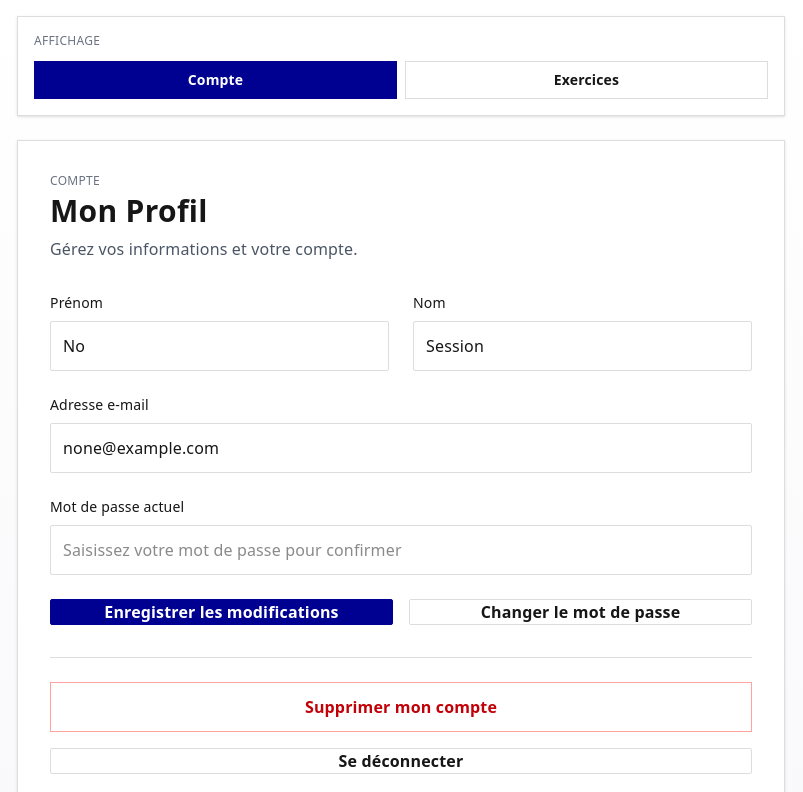
Test: Profile page › shows no session message when dashboard has no sessions
Click the button "Exercices" at {"x": 586, "y": 80}, box [405,61,768,99]
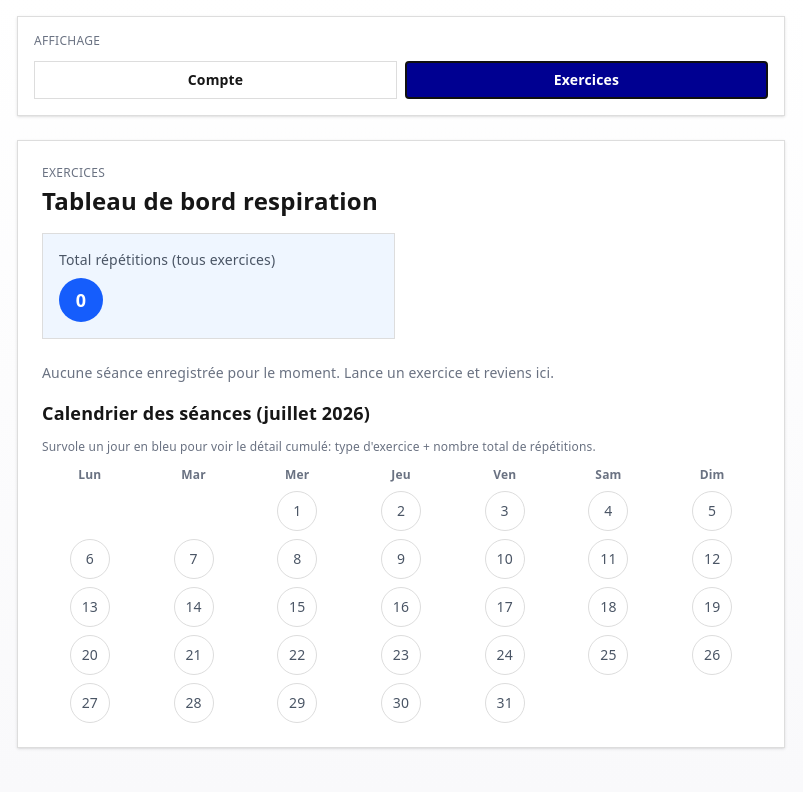
Now the text "Aucune séance enregistrée pour le moment" is shown, box [42,363,554,382]
